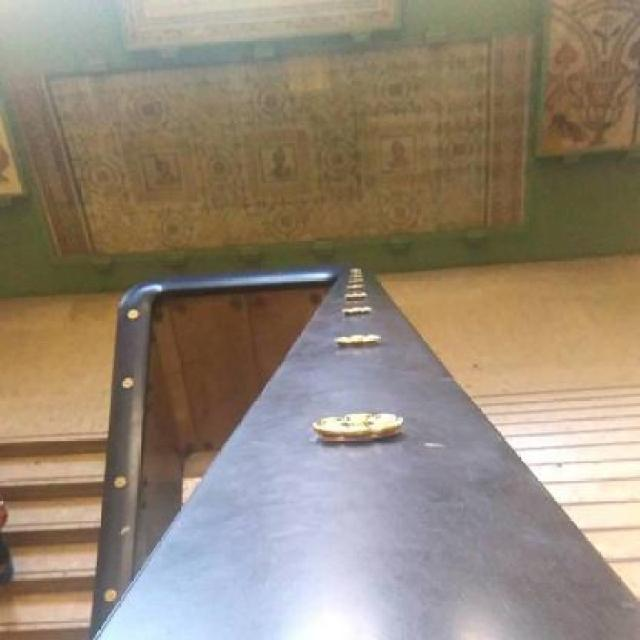stair: (467, 384, 640, 609), (0, 431, 108, 640)
